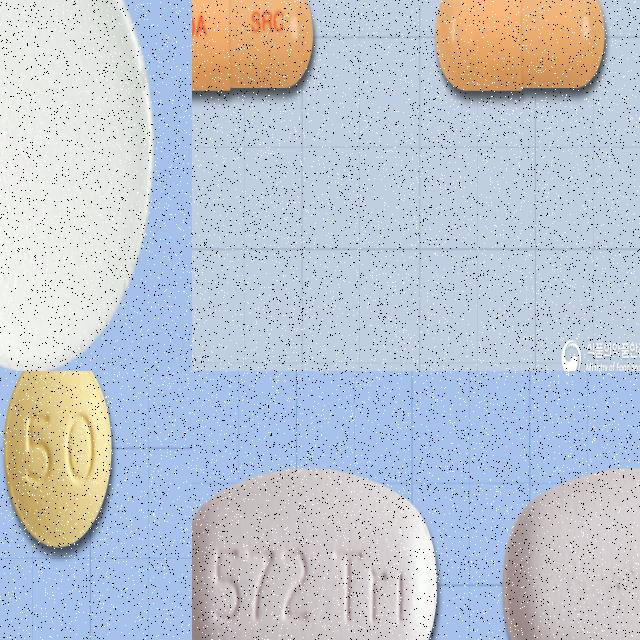Levocacin: (0, 0, 155, 371)
Supric Cap: (435, 0, 606, 92), (192, 0, 315, 92)
Tricyline-N Cap: (3, 371, 112, 552)
Truvada Tab: (192, 469, 438, 640), (503, 467, 640, 640)
